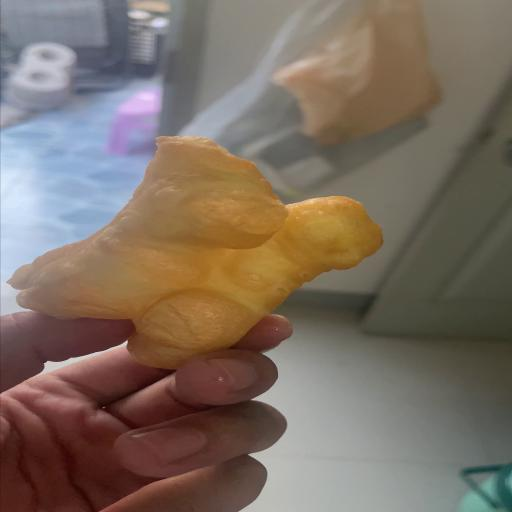street_golden_good: (8, 137, 381, 367)
